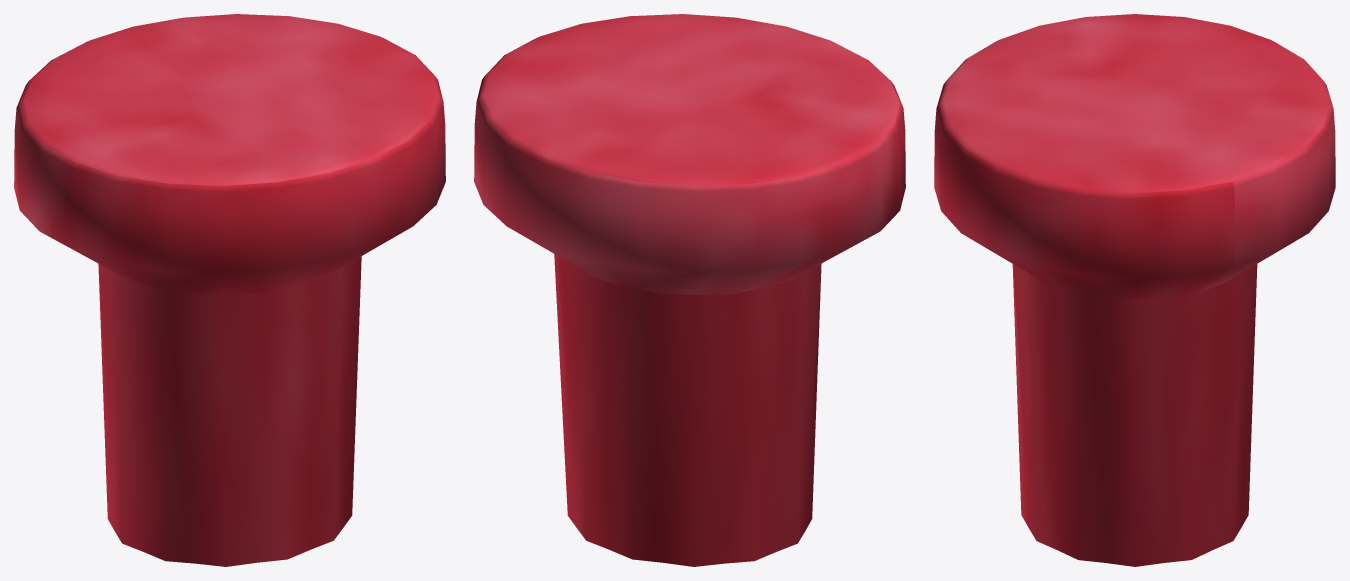
The model's file is joystick.fbx.
3 views of the same model, side by side, from view 1: azimuth 30°, elevation 25°; view 2: azimuth 150°, elevation 25°; view 3: azimuth 270°, elevation 25° (orthographic).
Parts seen in each view (by area): view 1: polySurface2; view 2: polySurface2; view 3: polySurface2.
Part boxes in pixels (box(x1,y1,x2,y2)): polySurface2: box(14, 14, 445, 566); polySurface2: box(474, 14, 905, 566); polySurface2: box(934, 14, 1335, 566).
Bounding box in the file's own units: 0.7628 × 0.8072 × 0.7061.
